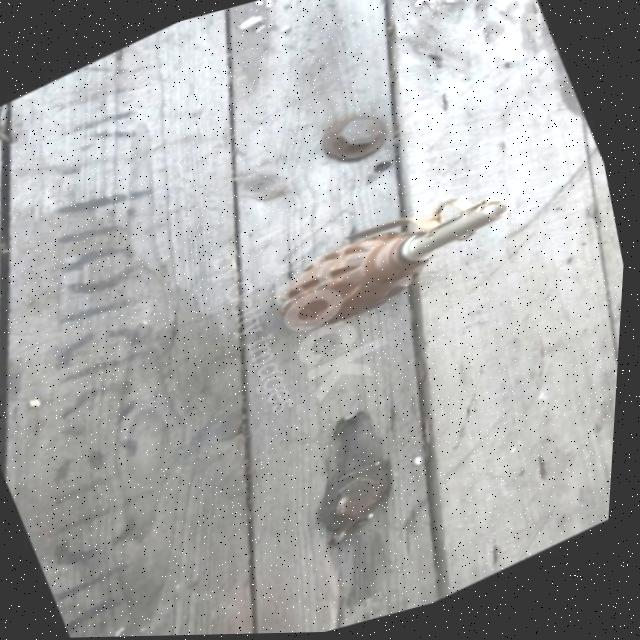grenade: (259, 167, 534, 350)
